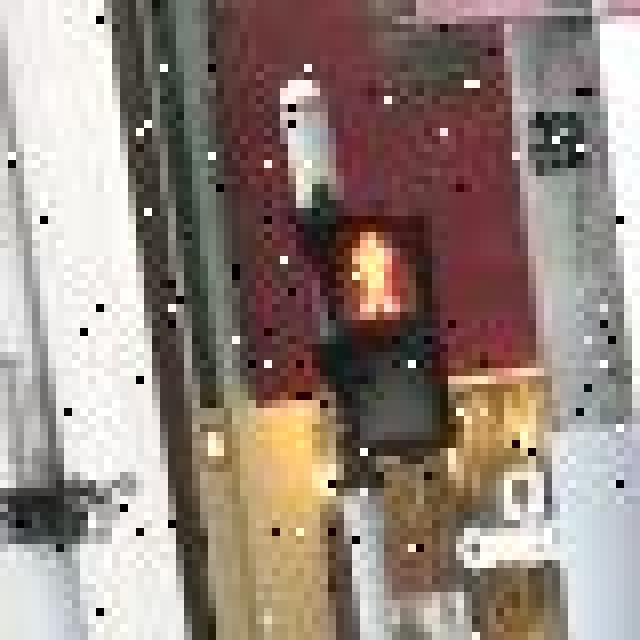redlight: (312, 200, 448, 464)
